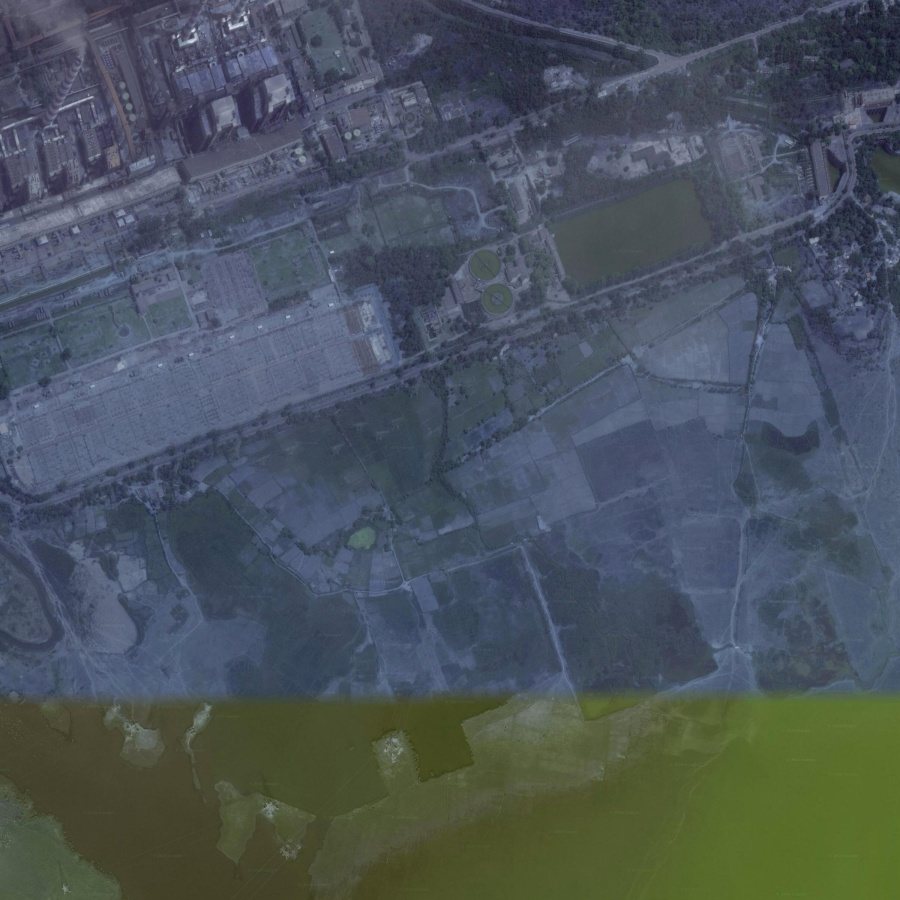PowerPlant: (539, 157, 721, 305)
